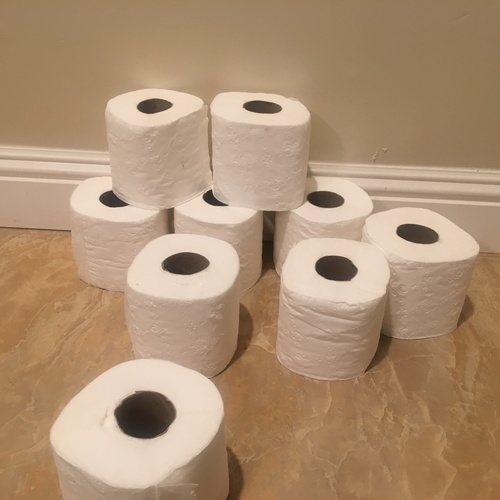roll: (49, 358, 232, 500), (123, 231, 241, 380), (273, 236, 392, 380), (361, 206, 480, 341), (103, 87, 211, 212), (209, 90, 312, 214), (68, 174, 171, 294), (170, 179, 263, 298), (273, 174, 373, 279)
